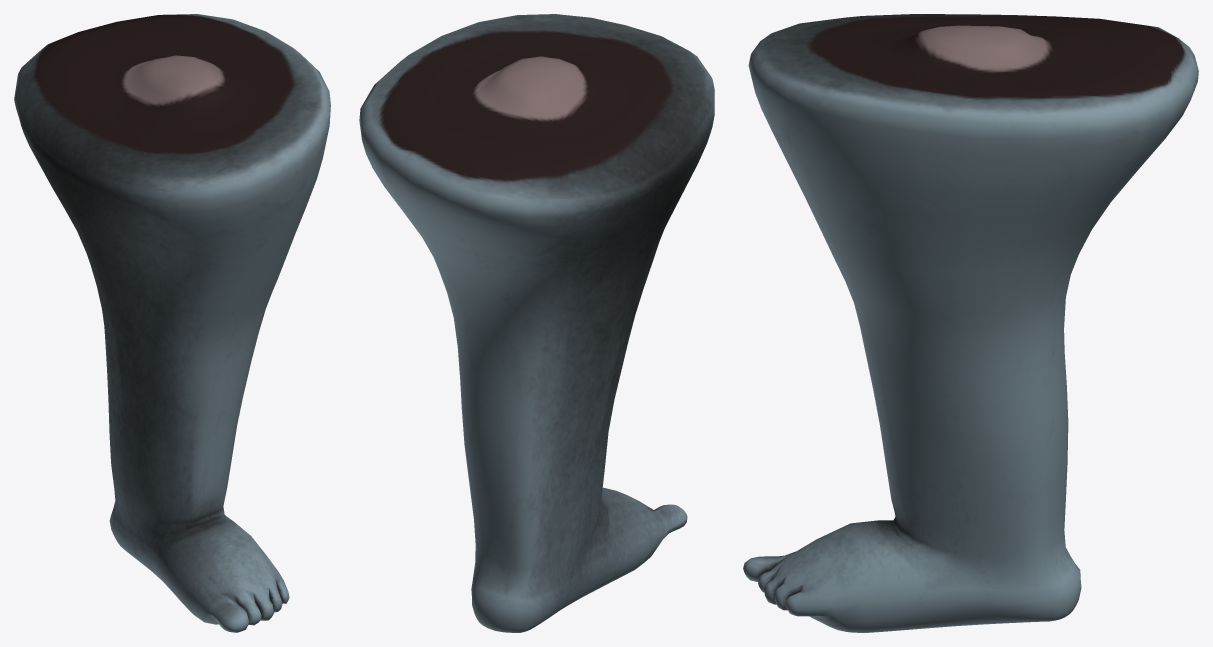
File: b01_l_leg.fbx
3 renders of one model, left to right at view 1: azimuth 30°, elevation 25°; view 2: azimuth 150°, elevation 25°; view 3: azimuth 270°, elevation 25°, orthographic. The views are drawn at different scales.
Visible parts, largest first — view 1: a01_l_leg9; view 2: a01_l_leg9; view 3: a01_l_leg9.
Part boxes in pixels (x1,y1,x2,y2): a01_l_leg9: (14,14,330,632); a01_l_leg9: (359,14,714,632); a01_l_leg9: (743,14,1198,632).
Size of the model in its own units: 29.62 by 57.22 by 39.92.
1 material, 1 textured.
